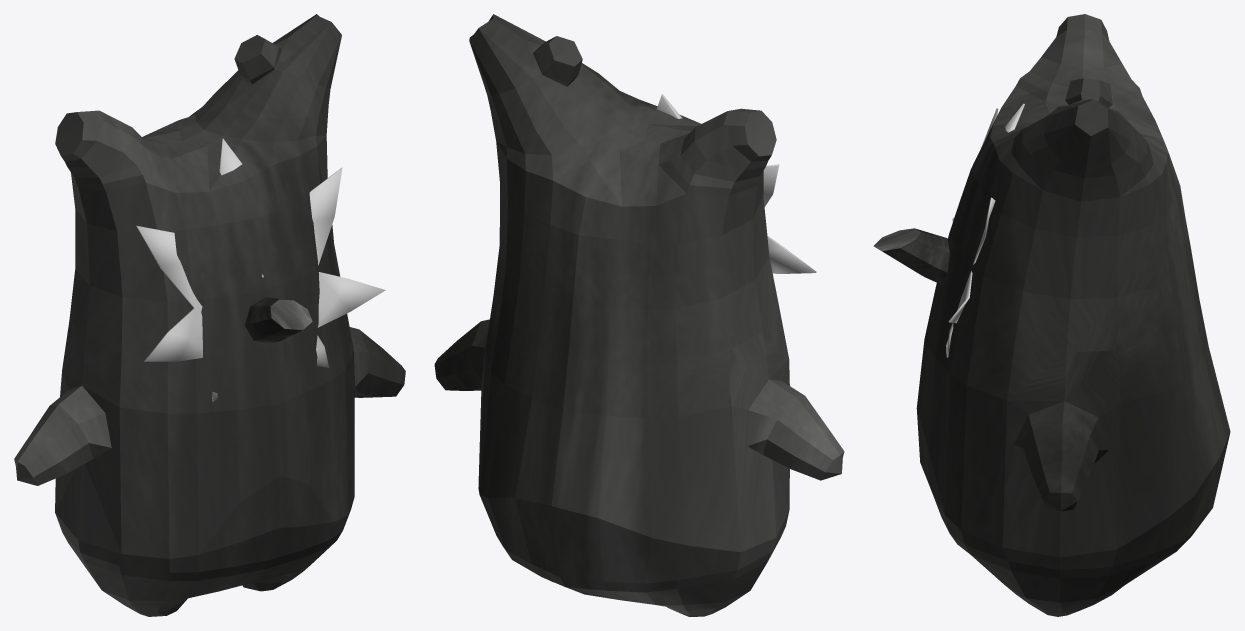
Rendered from frame_0001.obj.
The picture shows the model from 3 angles, left to right: view 1: azimuth 30°, elevation 25°; view 2: azimuth 150°, elevation 25°; view 3: azimuth 270°, elevation 25°; orthographic projection. The views are drawn at different scales.
Visible parts, largest first — view 1: korok, leaf, nose.003_柱体.011; view 2: korok, leaf; view 3: korok, nose.003_柱体.011, leaf.
Part boxes in pixels (<box>): korok: <box>14,14,405,616</box>; leaf: <box>136,138,385,401</box>; nose.003_柱体.011: <box>244,297,312,343</box>; korok: <box>434,14,844,616</box>; leaf: <box>656,94,816,273</box>; korok: <box>916,14,1230,616</box>; nose.003_柱体.011: <box>873,228,949,284</box>; leaf: <box>946,103,1024,357</box>.
Bounding box in the file's own units: 1.68 × 2.25 × 1.33.
